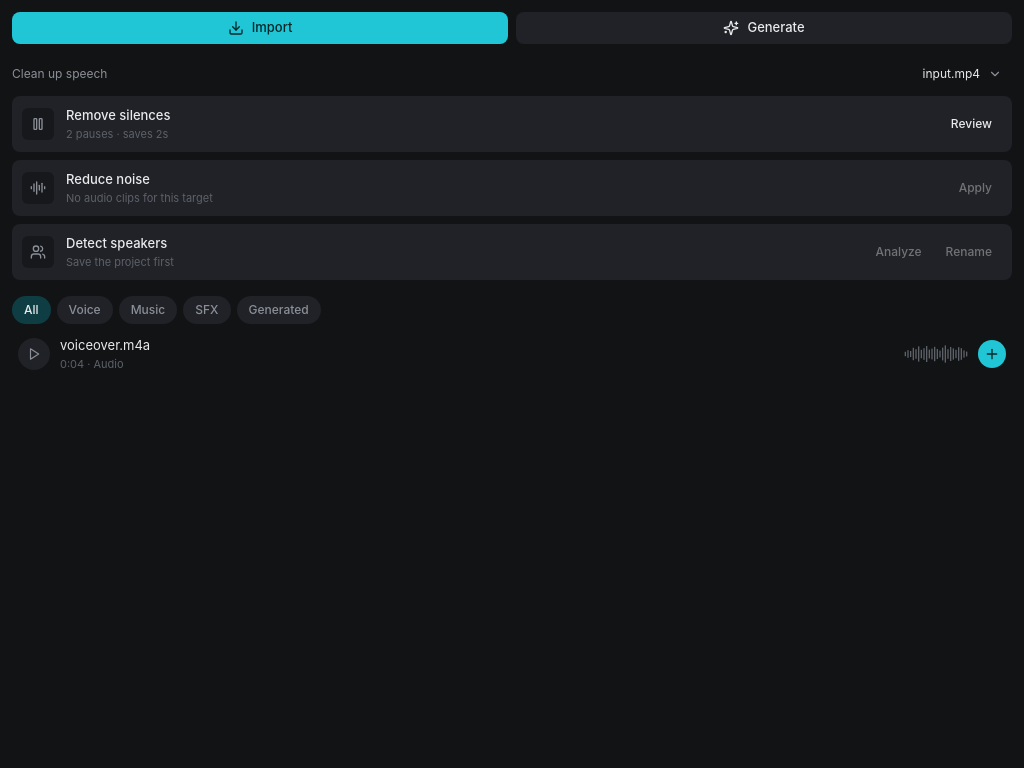
it: AudioPanel › silence review › disables Apply when every range is unchecked
Click the button with aria-label "Review pauses". click: (971,124)
box: [941,110,1002,138]
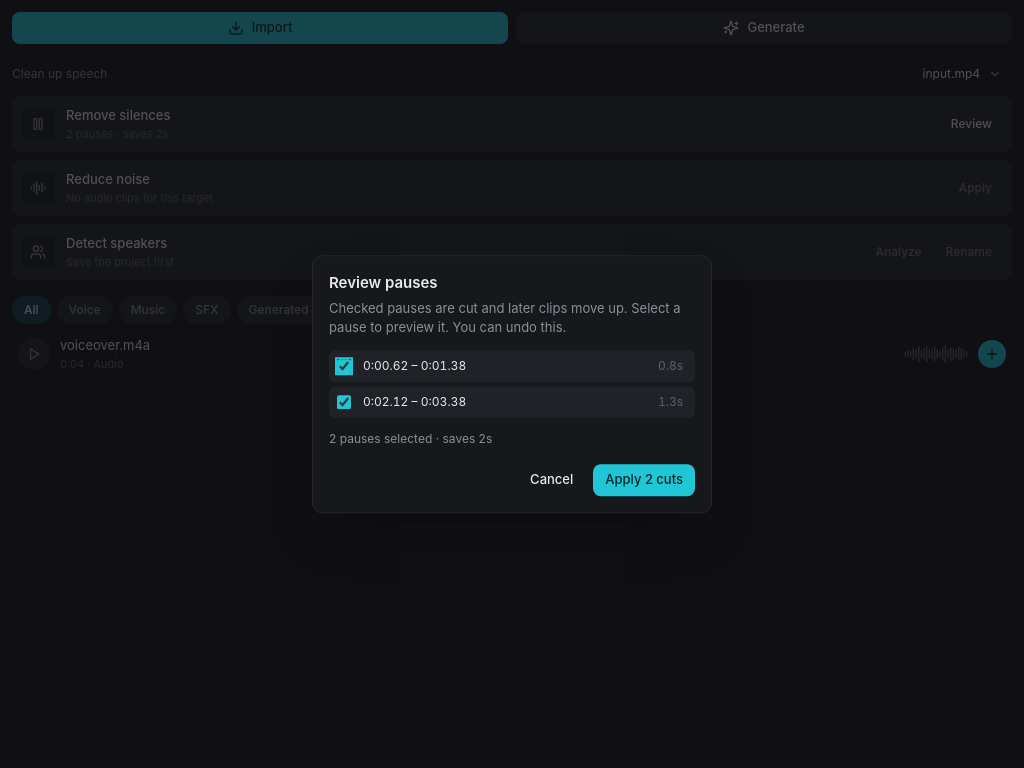
Click the checkbox named "Include pause 1". click: (344,366)
box: [337,359,351,373]
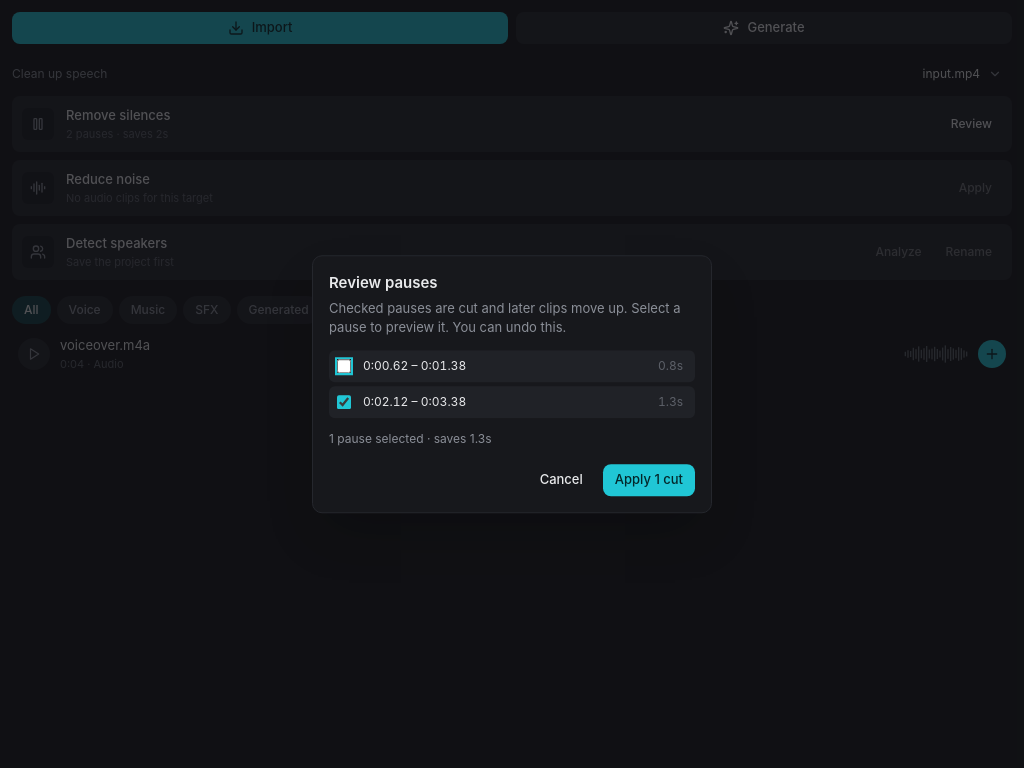
Click the checkbox named "Include pause 2". click: (344,402)
box: [337,395,351,409]
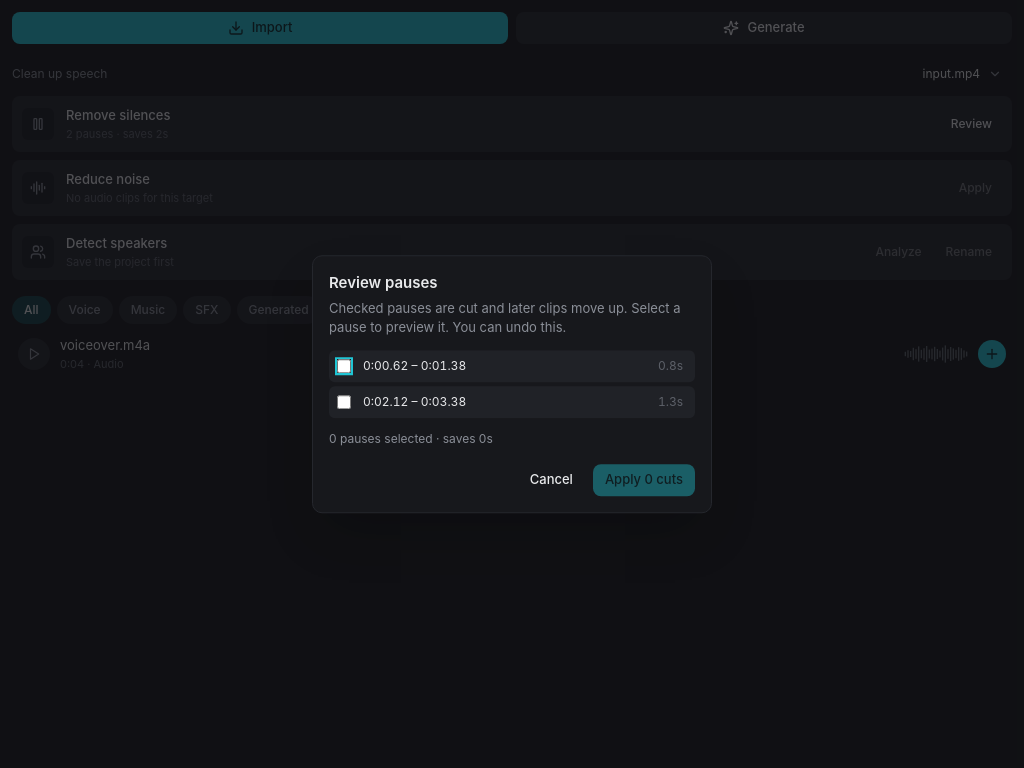
Expected: the button "Apply 0 cuts" is disabled, [593,464,695,496]
